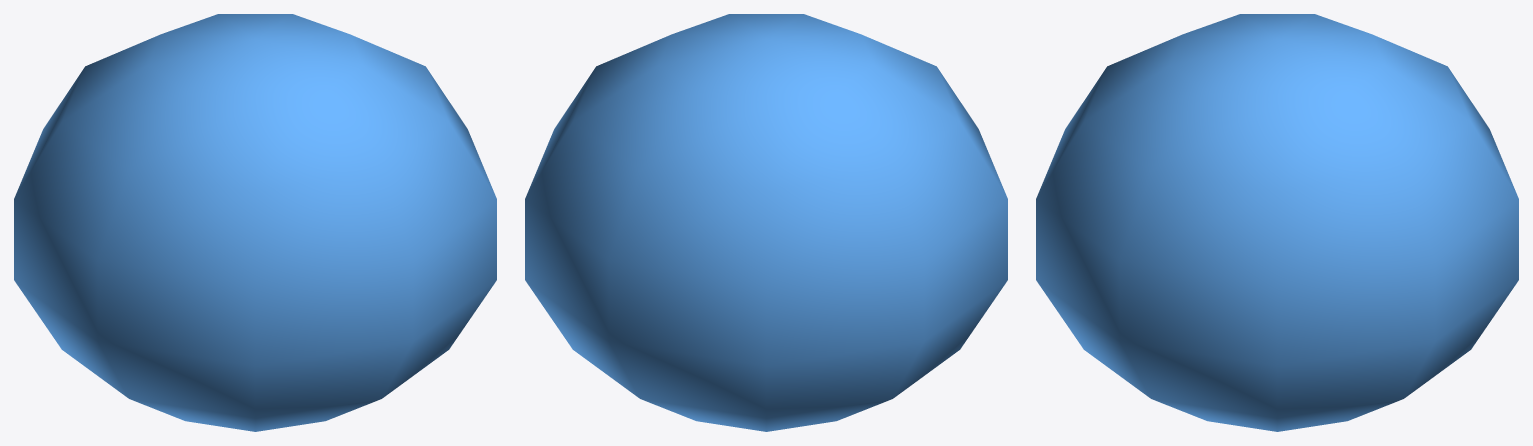
File: cloudpuff_stage1.obj
The picture shows the model from 3 angles, left to right: view 1: azimuth 30°, elevation 25°; view 2: azimuth 150°, elevation 25°; view 3: azimuth 270°, elevation 25°; orthographic projection.
Bounding box in the file's own units: 1.23 × 1.04 × 1.25.
